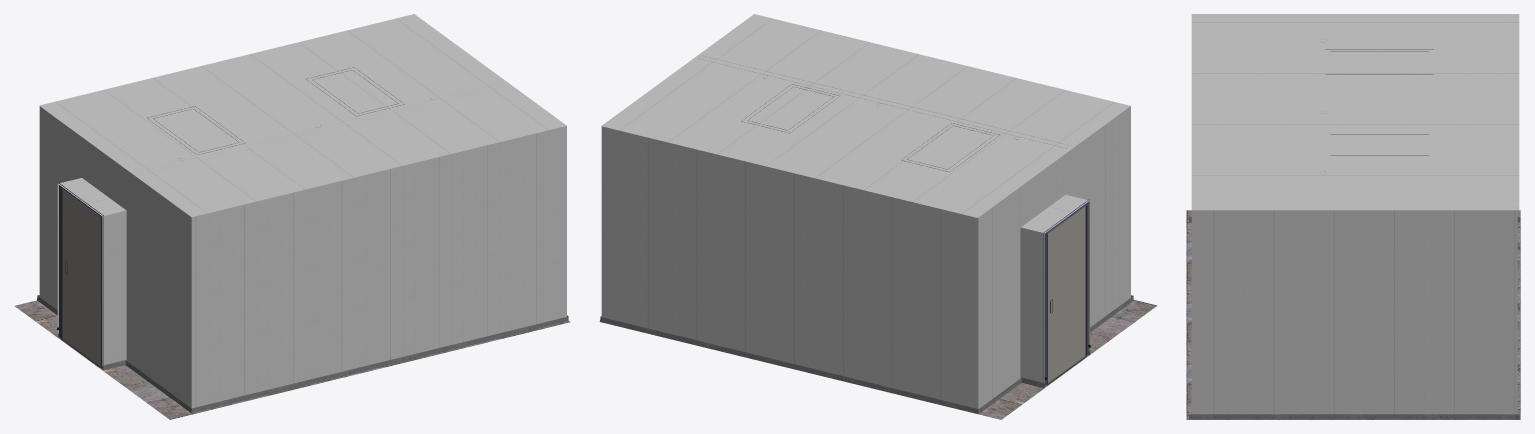
Rendered from pet.fbx.
3 renders of one model, left to right at view 1: azimuth 30°, elevation 25°; view 2: azimuth 150°, elevation 25°; view 3: azimuth 270°, elevation 25°, orthographic. The views are drawn at different scales.
Visible parts, largest first — view 1: walls.006, walls.007, door.003, walls.008; view 2: walls.006, walls.007, door.003, walls.008; view 3: walls.006, walls.007, walls.008, Plane.018.
Boxes of the visible parts, x1,y1,x2,y2 form: walls.006: [37, 106, 568, 413]; walls.007: [39, 14, 566, 217]; door.003: [62, 190, 99, 366]; walls.008: [14, 300, 570, 419]; walls.006: [600, 106, 1133, 414]; walls.007: [601, 14, 1130, 217]; door.003: [1048, 206, 1085, 383]; walls.008: [599, 300, 1157, 419]; walls.006: [1189, 210, 1520, 419]; walls.007: [1191, 14, 1519, 210]; walls.008: [1186, 210, 1520, 419]; Plane.018: [1325, 49, 1433, 74].
Size of the model in its own units: 599 by 278 by 402.
